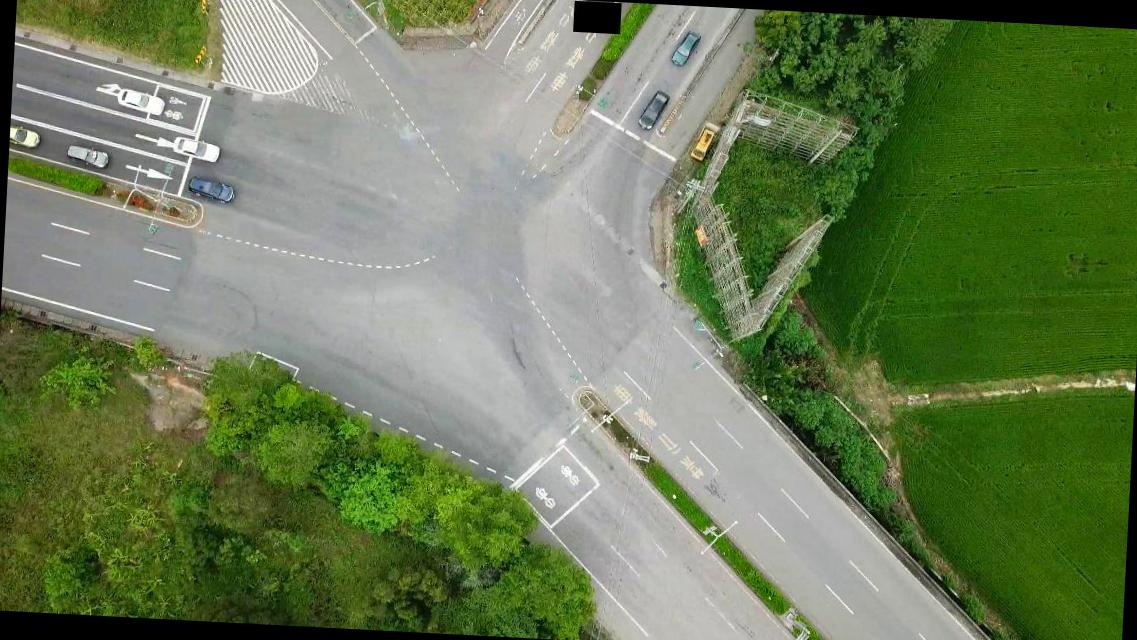vehicle: (185, 174, 239, 207), (116, 89, 166, 116), (172, 136, 219, 164), (636, 90, 668, 131), (672, 29, 702, 68), (66, 144, 110, 168), (690, 126, 712, 162), (8, 124, 40, 148)
